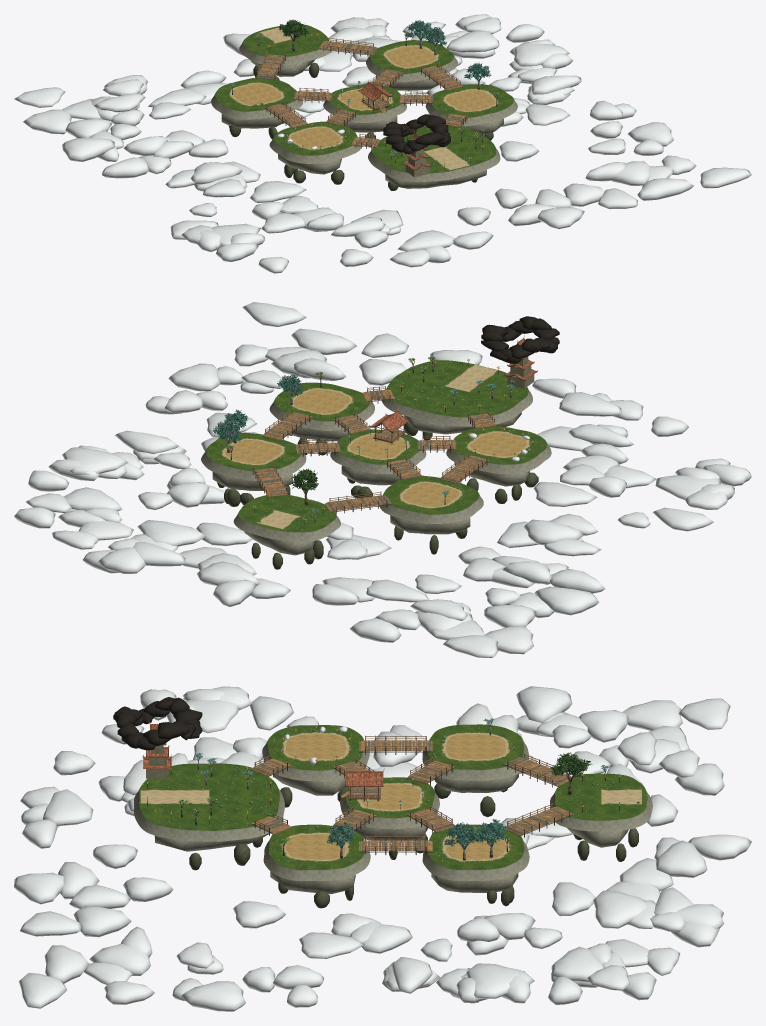
The model's file is rebirth-gandharva.glb.
3 views of the same model, one above another, from view 1: azimuth 30°, elevation 25°; view 2: azimuth 150°, elevation 25°; view 3: azimuth 270°, elevation 25° (orthographic). The views are drawn at different scales.
Parts seen in each view (by area): view 1: Backdrop cloud | cloud, Ground - varied meadow | meadow_rb, Floating island cliffs | rock, Tracks - worn earth | path_rb, Floating island roots | rock, Bridge / separate deck boards | wood_light, Bridge / separate deck boards | plank, Bridge / separate deck boards | wood_weathered, Storm cloud | basalt, Feathered road shoulders | path_edge, Floating island roots | mossy_stone, Bridge / side handrails | wood_light (+2 smaller); view 2: Backdrop cloud | cloud, Ground - varied meadow | meadow_rb, Floating island cliffs | rock, Tracks - worn earth | path_rb, Floating island roots | rock, Floating island roots | mossy_stone, Bridge / separate deck boards | wood_light, Storm cloud | basalt, Bridge / separate deck boards | plank, Bridge / separate deck boards | wood_weathered, Feathered road shoulders | path_edge, Bridge / side handrails | wood_light (+2 smaller); view 3: Backdrop cloud | cloud, Ground - varied meadow | meadow_rb, Floating island cliffs | rock, Tracks - worn earth | path_rb, Floating island roots | rock, Storm cloud | basalt, Bridge / separate deck boards | wood_light, Floating island roots | mossy_stone, Bridge / separate deck boards | plank, Bridge / separate deck boards | wood_weathered, Feathered road shoulders | path_edge, Bridge / side handrails | wood_light (+7 smaller).
Part boxes in pixels (box(x1,y1,x2,y2)): Backdrop cloud | cloud: box(14, 14, 751, 273); Ground - varied meadow | meadow_rb: box(215, 24, 513, 173); Floating island cliffs | rock: box(211, 39, 517, 181); Tracks - worn earth | path_rb: box(233, 46, 495, 148); Floating island roots | rock: box(221, 59, 503, 188); Bridge / separate deck boards | wood_light: box(256, 40, 468, 147); Bridge / separate deck boards | plank: box(258, 40, 467, 147); Bridge / separate deck boards | wood_weathered: box(256, 41, 466, 146); Storm cloud | basalt: box(383, 114, 450, 154); Feathered road shoulders | path_edge: box(229, 32, 498, 170); Floating island roots | mossy_stone: box(229, 62, 493, 190); Bridge / side handrails | wood_light: box(257, 38, 466, 144); Backdrop cloud | cloud: box(14, 302, 751, 657); Ground - varied meadow | meadow_rb: box(205, 360, 546, 532); Floating island cliffs | rock: box(201, 389, 551, 541); Tracks - worn earth | path_rb: box(225, 389, 526, 506); Floating island roots | rock: box(212, 412, 529, 555); Floating island roots | mossy_stone: box(217, 422, 538, 569); Bridge / separate deck boards | wood_light: box(253, 389, 495, 510); Storm cloud | basalt: box(481, 316, 559, 363); Bridge / separate deck boards | plank: box(255, 390, 495, 512); Bridge / separate deck boards | wood_weathered: box(253, 390, 493, 511); Feathered road shoulders | path_edge: box(221, 364, 530, 529); Bridge / side handrails | wood_light: box(254, 386, 493, 508); Backdrop cloud | cloud: box(14, 686, 751, 1011); Ground - varied meadow | meadow_rb: box(139, 724, 647, 870); Floating island cliffs | rock: box(134, 740, 652, 880); Tracks - worn earth | path_rb: box(285, 734, 505, 859); Floating island roots | rock: box(154, 773, 628, 894); Storm cloud | basalt: box(113, 697, 202, 750); Bridge / separate deck boards | wood_light: box(251, 740, 570, 851); Floating island roots | mossy_stone: box(189, 784, 638, 908); Bridge / separate deck boards | plank: box(251, 740, 574, 851); Bridge / separate deck boards | wood_weathered: box(253, 740, 572, 851); Feathered road shoulders | path_edge: box(140, 732, 641, 861); Bridge / side handrails | wood_light: box(255, 736, 568, 848).
Size of the model in its own units: 205 by 39.66 by 200.
Materials: 39 (35 with a texture image).
